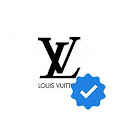fraud: (70, 72, 105, 110)
